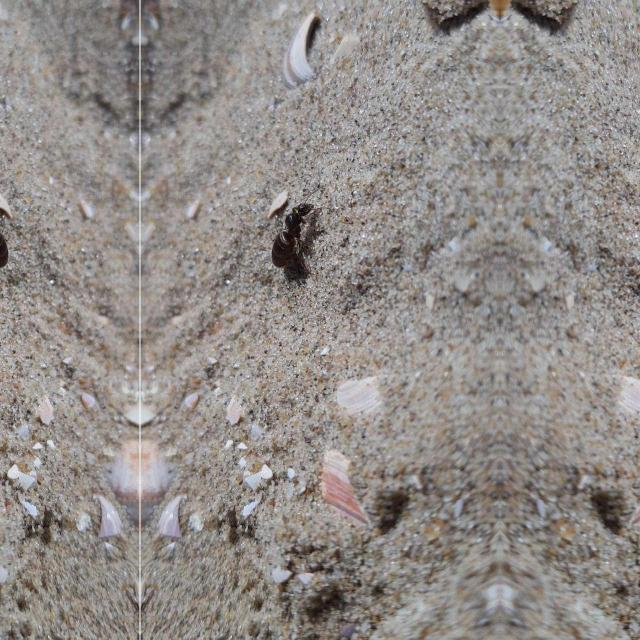Lasius: (260, 185, 318, 272), (0, 184, 20, 270)
